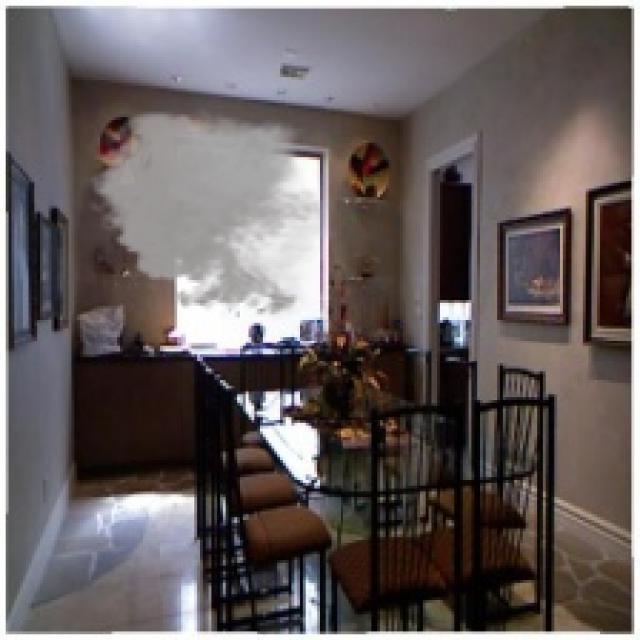Smoke: (83, 103, 340, 323)
